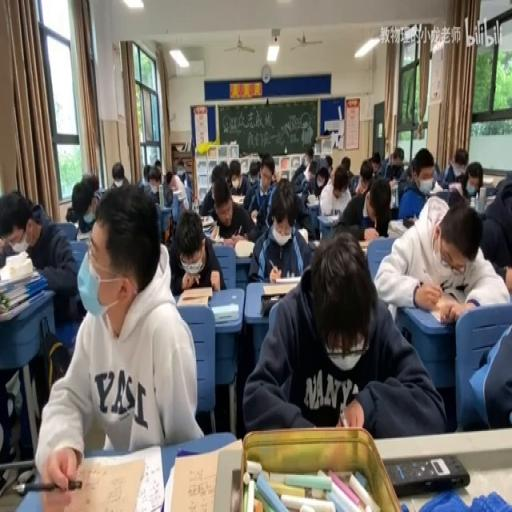calculator: (44, 444, 159, 509), (164, 445, 230, 512), (177, 286, 213, 306), (210, 302, 238, 322), (261, 282, 297, 296), (428, 306, 454, 324), (233, 238, 254, 256), (388, 218, 406, 236), (318, 213, 340, 226), (389, 181, 398, 209), (358, 239, 374, 253), (429, 182, 445, 195), (275, 274, 300, 282), (75, 228, 91, 240), (296, 226, 307, 243), (483, 195, 496, 209), (306, 194, 320, 206), (200, 215, 214, 226), (210, 224, 219, 240), (230, 195, 244, 205), (482, 175, 496, 183), (309, 239, 319, 247)
paper: (245, 233, 440, 437), (2, 186, 80, 458), (246, 176, 312, 279), (464, 310, 510, 427), (199, 174, 256, 244), (478, 174, 512, 273), (340, 170, 390, 234), (395, 145, 438, 219), (450, 161, 484, 203), (163, 165, 188, 222), (303, 155, 328, 195), (139, 161, 162, 202), (380, 145, 406, 179), (230, 156, 248, 194), (330, 223, 362, 242), (30, 201, 50, 226), (110, 162, 128, 188), (87, 174, 99, 199), (333, 178, 346, 198), (348, 174, 360, 194), (454, 148, 467, 166), (219, 159, 229, 179), (404, 159, 414, 178), (370, 154, 380, 172), (340, 155, 350, 172), (360, 171, 371, 186), (324, 154, 333, 172), (65, 206, 75, 222), (433, 161, 441, 179), (176, 169, 186, 182), (249, 168, 258, 182), (306, 148, 314, 163), (165, 170, 173, 184), (172, 161, 178, 175), (154, 158, 160, 171), (270, 174, 277, 182)
person: (384, 454, 470, 496), (260, 294, 290, 316), (230, 468, 242, 510), (402, 218, 416, 226)
